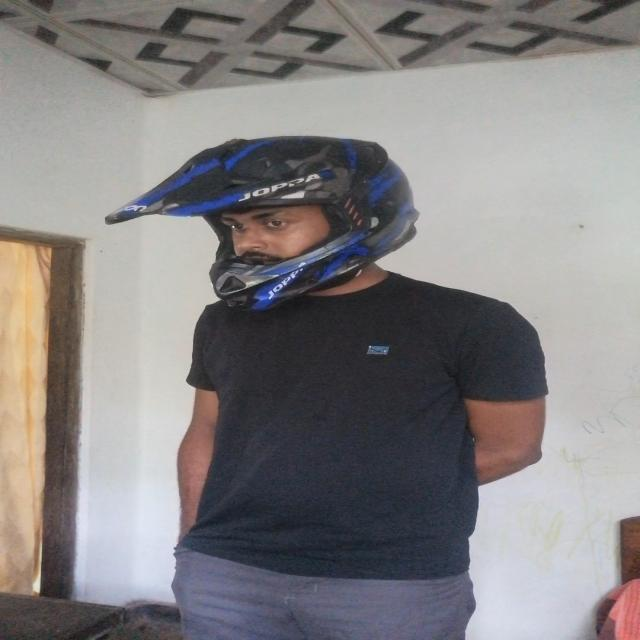Helmet_Wearer: (93, 134, 423, 334)
Person: (171, 139, 558, 640)
